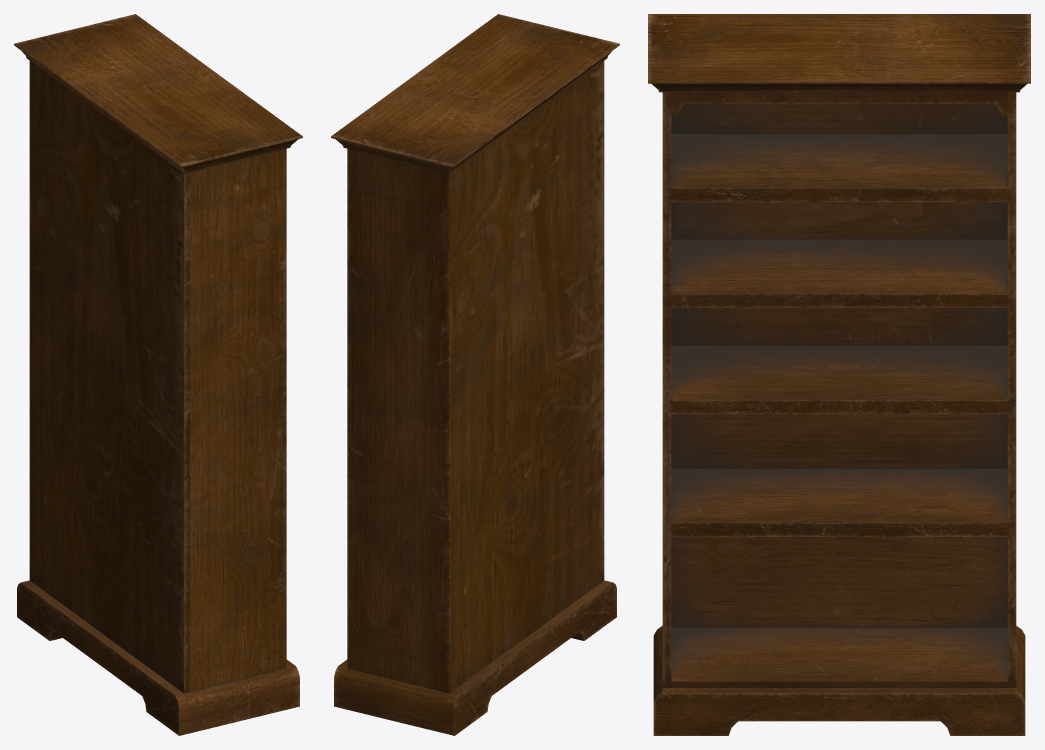
File: Library.fbx
3 views of the same model, side by side, from view 1: azimuth 30°, elevation 25°; view 2: azimuth 150°, elevation 25°; view 3: azimuth 270°, elevation 25° (orthographic). The views are drawn at different scales.
Visible parts, largest first — view 1: 01; view 2: 01; view 3: 01.
Part boxes in pixels (x1,y1,x2,y2): 01: (14, 14, 302, 735); 01: (331, 14, 619, 735); 01: (648, 14, 1030, 735).
Size of the model in its own units: 52.25 by 234 by 124.
